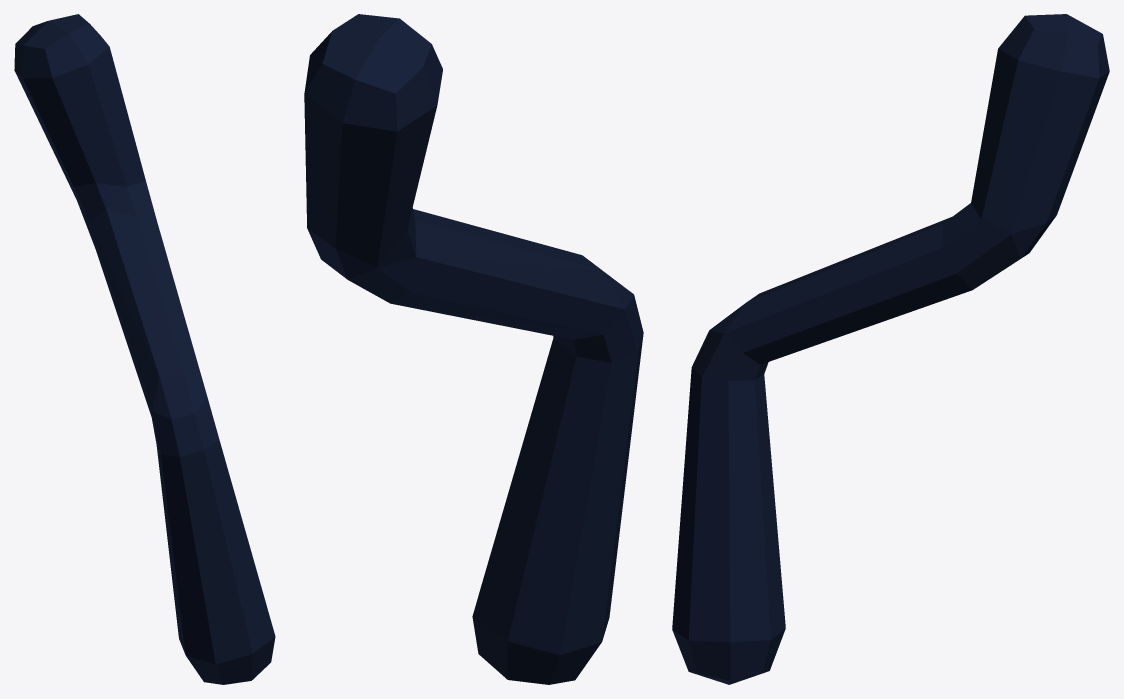
Rendered from VentVines2.glb.
3 renders of one model, left to right at view 1: azimuth 30°, elevation 25°; view 2: azimuth 150°, elevation 25°; view 3: azimuth 270°, elevation 25°, orthographic. The views are drawn at different scales.
Visible parts, largest first — view 1: Plane; view 2: Plane; view 3: Plane.
Part boxes in pixels (box(x1,y1,x2,y2)): Plane: box(14, 14, 275, 684); Plane: box(304, 14, 643, 684); Plane: box(672, 14, 1109, 684).
Bounding box in the file's own units: 0.0627 × 0.3094 × 0.1894.
1 material, 1 textured.
